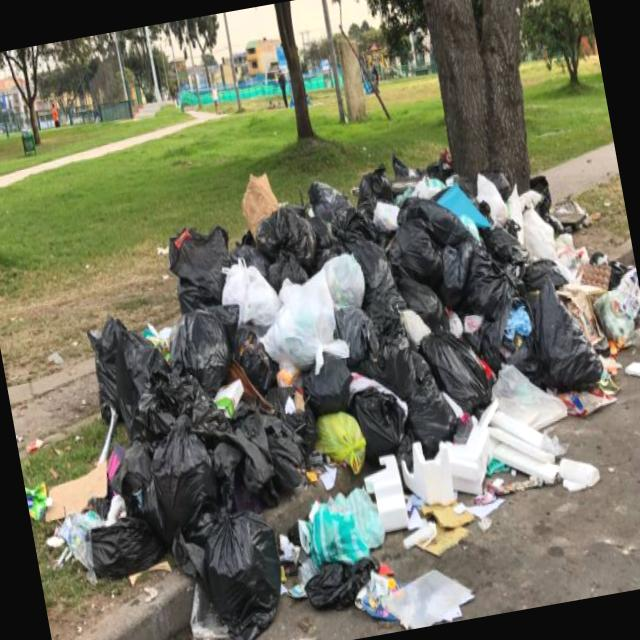garbage: (14, 107, 640, 640)
